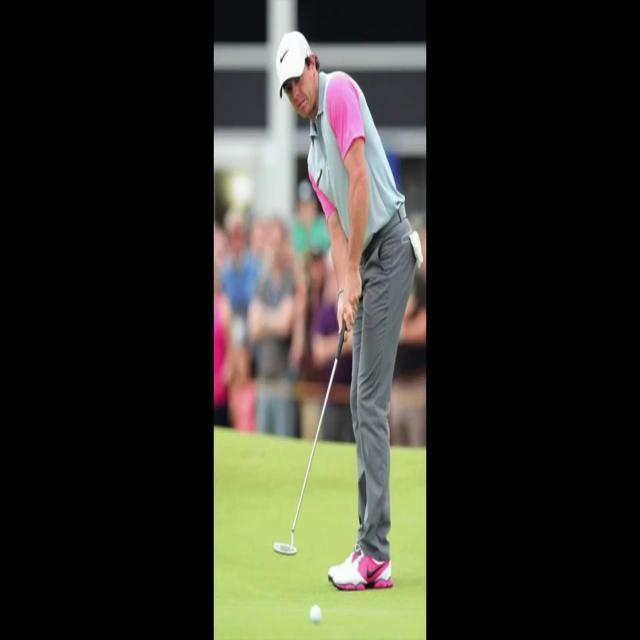ClubHead: (260, 520, 304, 566)
GolfBall: (304, 600, 328, 630)
